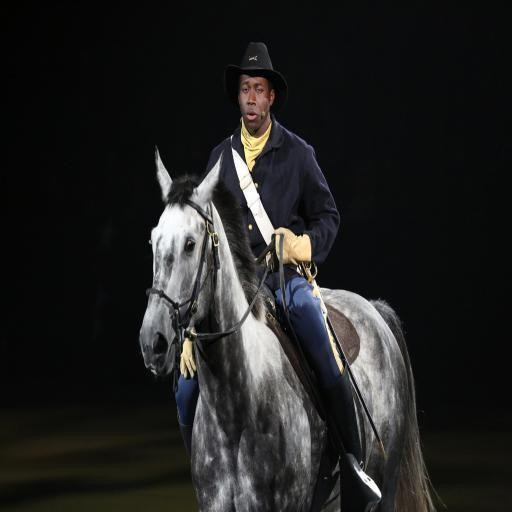horse: (138, 148, 449, 512)
